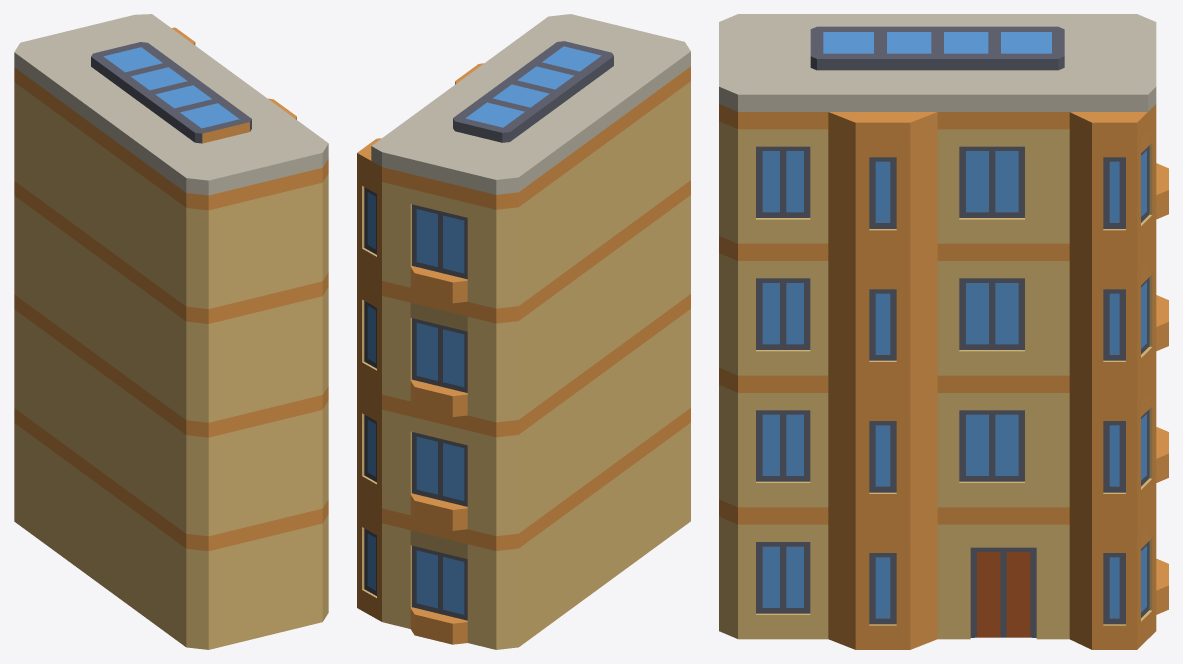
3 views of the same model, side by side, from view 1: azimuth 30°, elevation 25°; view 2: azimuth 150°, elevation 25°; view 3: azimuth 270°, elevation 25° (orthographic). The views are drawn at different scales.
Visible parts, largest first — view 1: predio 5.002; view 2: predio 5.002; view 3: predio 5.002.
Part boxes in pixels (x1,y1,x2,y2): predio 5.002: (14,14,328,649); predio 5.002: (357,14,690,649); predio 5.002: (719,14,1168,649).
Size of the model in its own units: 3400 by 9643 by 7071.
